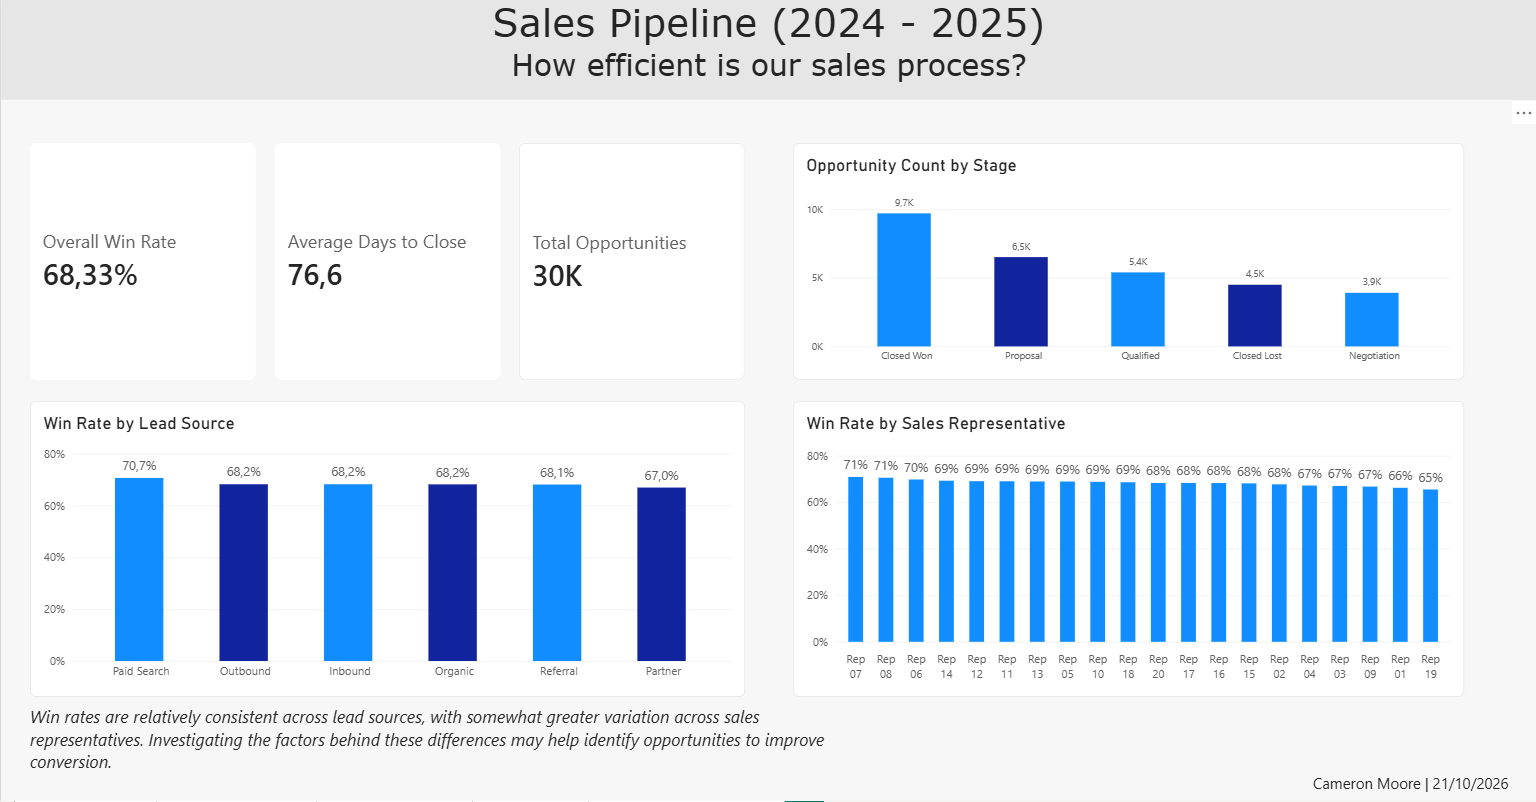

The page's visual inventory and layout, read from the dashboard file:
{"tool":"powerbi","page":{"name":"Sales Pipeline","canvas":[1920,1080],"ordinal":3},"visuals":[{"type":"textbox","box":[0,0,1920,126.2],"z":0},{"type":"cardVisual","fields":{"Data":["northstar_workflow companies.Overall Win Rate"]},"box":[36.2,180,282.5,296.2],"z":1000},{"type":"columnChart","title":"Win Rate by Lead Source","fields":{"Category":["northstar_workflow opportunities.lead_source"],"Y":["northstar_workflow companies.Overall Win Rate"]},"box":[36.2,502.5,893.8,370],"z":2000},{"type":"columnChart","title":"Win Rate by Sales Representative","fields":{"Category":["northstar_workflow opportunities.sales_rep"],"Y":["northstar_workflow companies.Overall Win Rate"]},"box":[990,502.5,838.8,370],"z":3000},{"type":"cardVisual","fields":{"Data":["northstar_workflow companies.Average Days to Close"]},"box":[342.5,180,282.5,296.2],"z":4000},{"type":"clusteredColumnChart","title":"Opportunity Count by Stage","fields":{"Category":["northstar_workflow opportunities.stage"],"Y":["Count(northstar_workflow opportunities.opportunity_id)"]},"box":[990,180,838.8,296.2],"z":5000},{"type":"cardVisual","title":"Total Opportu","fields":{"Data":["Count(northstar_workflow opportunities.opportunity_id)"]},"box":[647.5,180,282.5,296.2],"z":6000},{"type":"textbox","box":[1640,967.5,267.5,31.2],"z":7000},{"type":"textbox","box":[36.2,882.5,1001.2,85],"z":8000}]}

Visuals, with their boxes on the page's 1920x1080 design canvas (x1, y1, x2, y2). These are canvas units, not pixel positions in the 1536x802 screenshot, which may show the page scaled, cropped or inside an application window:
textbox: 0 0 1920 126
cardVisual - northstar_workflow companies.Overall Win Rate: 36 180 319 476
"Win Rate by Lead Source" columnChart: 36 502 930 872
"Win Rate by Sales Representative" columnChart: 990 502 1829 872
cardVisual - northstar_workflow companies.Average Days to Close: 342 180 625 476
"Opportunity Count by Stage" clusteredColumnChart: 990 180 1829 476
"Total Opportu" cardVisual: 648 180 930 476
textbox: 1640 968 1908 999
textbox: 36 882 1037 968
